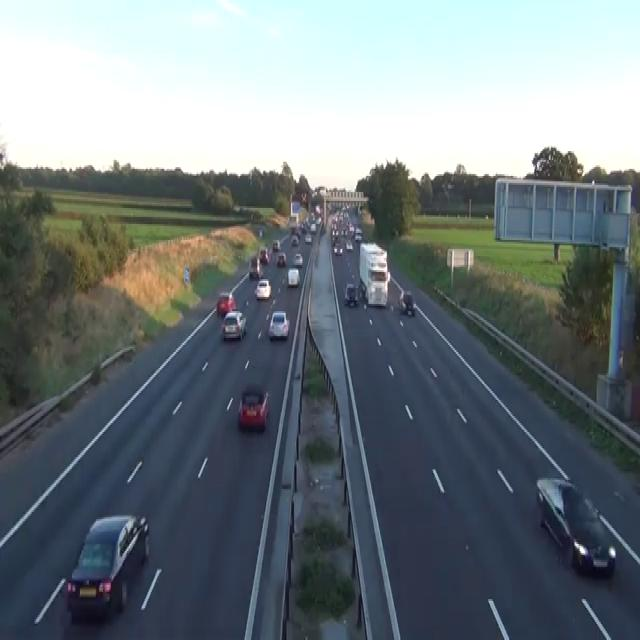Car: (66, 514, 150, 620), (535, 476, 616, 576), (331, 206, 363, 258), (237, 386, 270, 430), (221, 310, 247, 340), (268, 310, 289, 340), (216, 292, 236, 316), (399, 290, 416, 314), (254, 277, 271, 299), (248, 254, 262, 279), (344, 282, 358, 306), (287, 267, 300, 286), (90, 363, 101, 384), (259, 245, 270, 263), (276, 250, 286, 266), (293, 250, 303, 266), (331, 228, 339, 245), (333, 242, 343, 254), (0, 149, 6, 169), (354, 228, 362, 242), (272, 238, 280, 251), (441, 182, 454, 190), (290, 235, 299, 245), (345, 240, 353, 251), (300, 192, 307, 204), (232, 202, 240, 212), (309, 222, 316, 233), (304, 233, 312, 242), (340, 226, 347, 236), (349, 222, 354, 235), (446, 182, 454, 188), (259, 228, 262, 236)
Truck: (358, 242, 390, 308)
